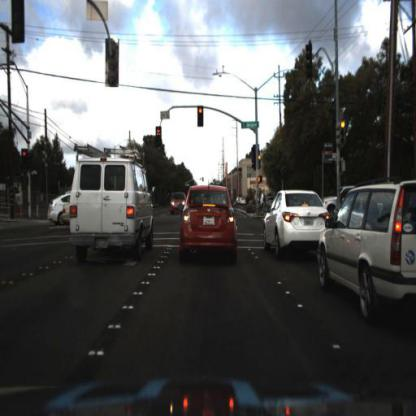biker: (255, 190, 272, 218)
car: (316, 180, 416, 316), (61, 145, 156, 265), (261, 182, 319, 263), (179, 187, 239, 257), (321, 183, 348, 208), (61, 196, 75, 238)
trafficLight-Red: (338, 117, 347, 135), (21, 148, 27, 171), (256, 151, 264, 167), (199, 106, 204, 128)
trafficLight-RedLeft: (156, 124, 162, 140)
